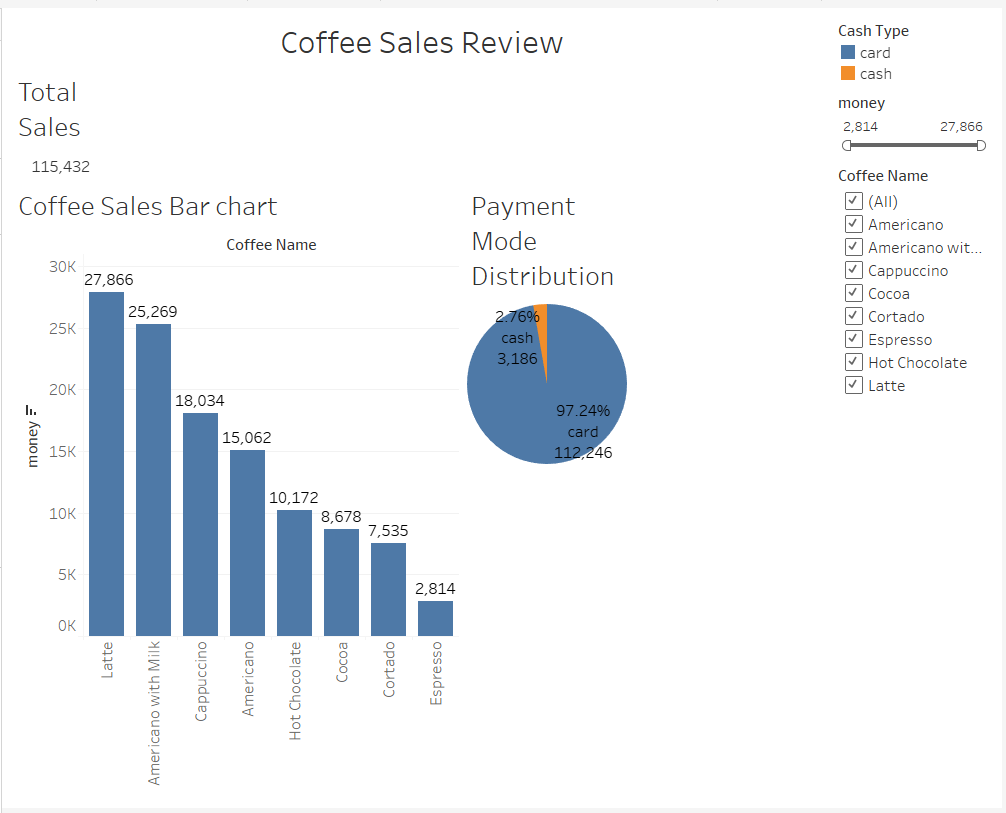

The page's visual inventory and layout, read from the dashboard file:
{"tool":"tableau","page":{"name":"Dashboard 1","canvas":[1000,800],"ordinal":0},"visuals":[{"type":"title","box":[8,8,824,50]},{"type":"legend","title":"Sheet 3","param":"[federated.13fs3id0c028z5184cn7j0u5cz0u].[none:cash_type:nk]","box":[832,8,160,72]},{"type":"worksheet","title":"Sheet 1","mark":"Automatic","box":[8,58,824,114]},{"type":"filter","title":"Sheet 2","param":"[federated.13fs3id0c028z5184cn7j0u5cz0u].[sum:money:qk]","box":[832,80,160,73]},{"type":"filter","title":"Sheet 2","param":"[federated.13fs3id0c028z5184cn7j0u5cz0u].[none:coffee_name:nk]","box":[832,153,160,243]},{"type":"worksheet","title":"Sheet 2","mark":"Bar","rows":["money"],"cols":["coffee_name"],"box":[8,172,453,620]},{"type":"worksheet","title":"Sheet 3","mark":"Pie","box":[461,172,339,288]}]}

Visuals, with their boxes in screenshot pixels (x1, y1, x2, y2), scaled from the page's 1000x800 canvas onto the 1006x813 screenshot:
title: detection(8, 8, 837, 59)
"Sheet 3" legend: detection(837, 8, 998, 81)
"Sheet 1" worksheet: detection(8, 59, 837, 175)
"Sheet 2" filter: detection(837, 81, 998, 155)
"Sheet 2" filter: detection(837, 155, 998, 402)
"Sheet 2" worksheet (Bar marks): detection(8, 175, 464, 805)
"Sheet 3" worksheet (Pie marks): detection(464, 175, 805, 467)
